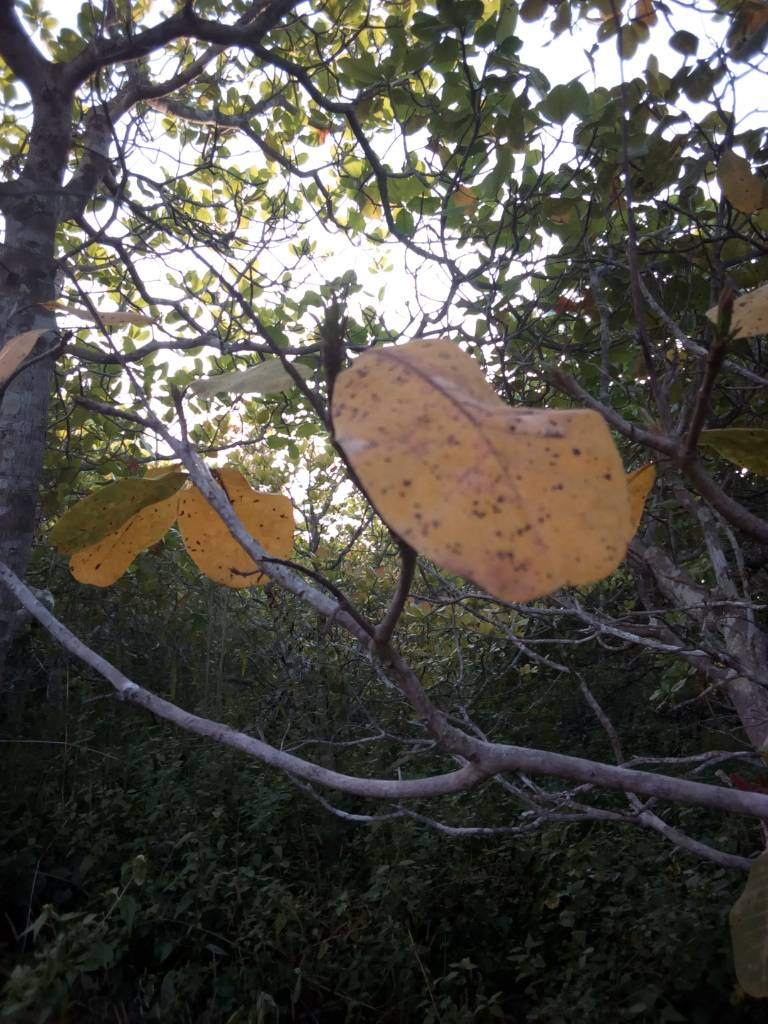Anthracnose: (332, 335, 625, 603)
